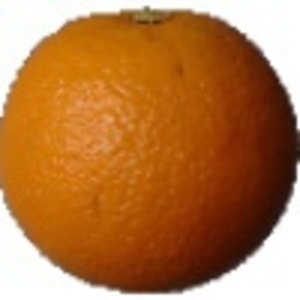laranja: (2, 5, 299, 295)
